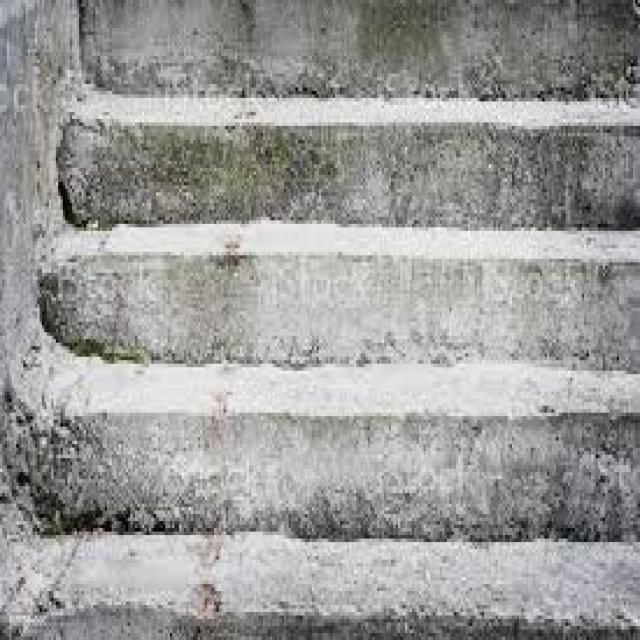upstair: (17, 98, 609, 588)
